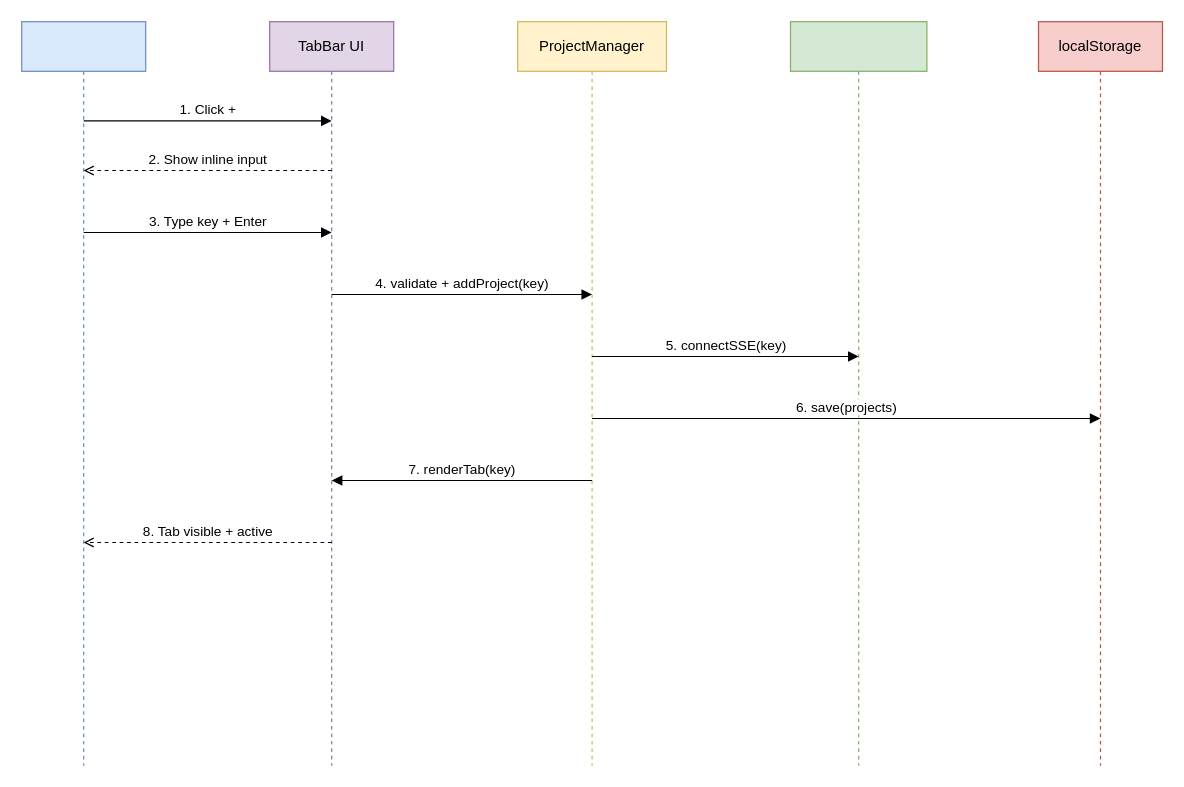
The diagram is 1184 pixels wide and 787 high, and some of its shapes have lost their labels. Each missing label, with the box of its shape:
Admin: (20, 20, 146, 766)
SSEManager: (789, 20, 927, 766)
